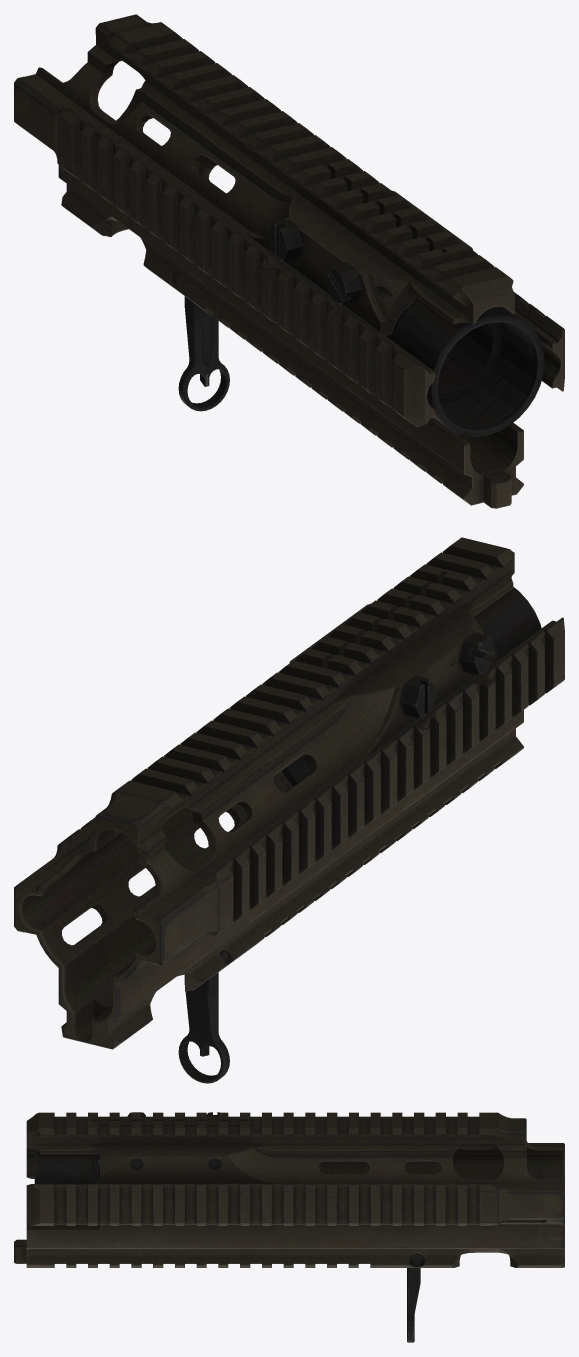
3 views of the same model, one above another, from view 1: azimuth 30°, elevation 25°; view 2: azimuth 150°, elevation 25°; view 3: azimuth 270°, elevation 25° (orthographic). The views are drawn at different scales.
Parts seen in each view (by area): view 1: TW_61712eae6c780c1e710c9a1d_unfolded_PZ_Import; view 2: TW_61712eae6c780c1e710c9a1d_unfolded_PZ_Import; view 3: TW_61712eae6c780c1e710c9a1d_unfolded_PZ_Import.
Part boxes in pixels (x1,y1,x2,y2): TW_61712eae6c780c1e710c9a1d_unfolded_PZ_Import: [14, 14, 564, 508]; TW_61712eae6c780c1e710c9a1d_unfolded_PZ_Import: [14, 537, 564, 1083]; TW_61712eae6c780c1e710c9a1d_unfolded_PZ_Import: [14, 1112, 564, 1342].
Size of the model in its own units: 0.0329 by 0.1465 by 0.0648.
1 material, 1 textured.
